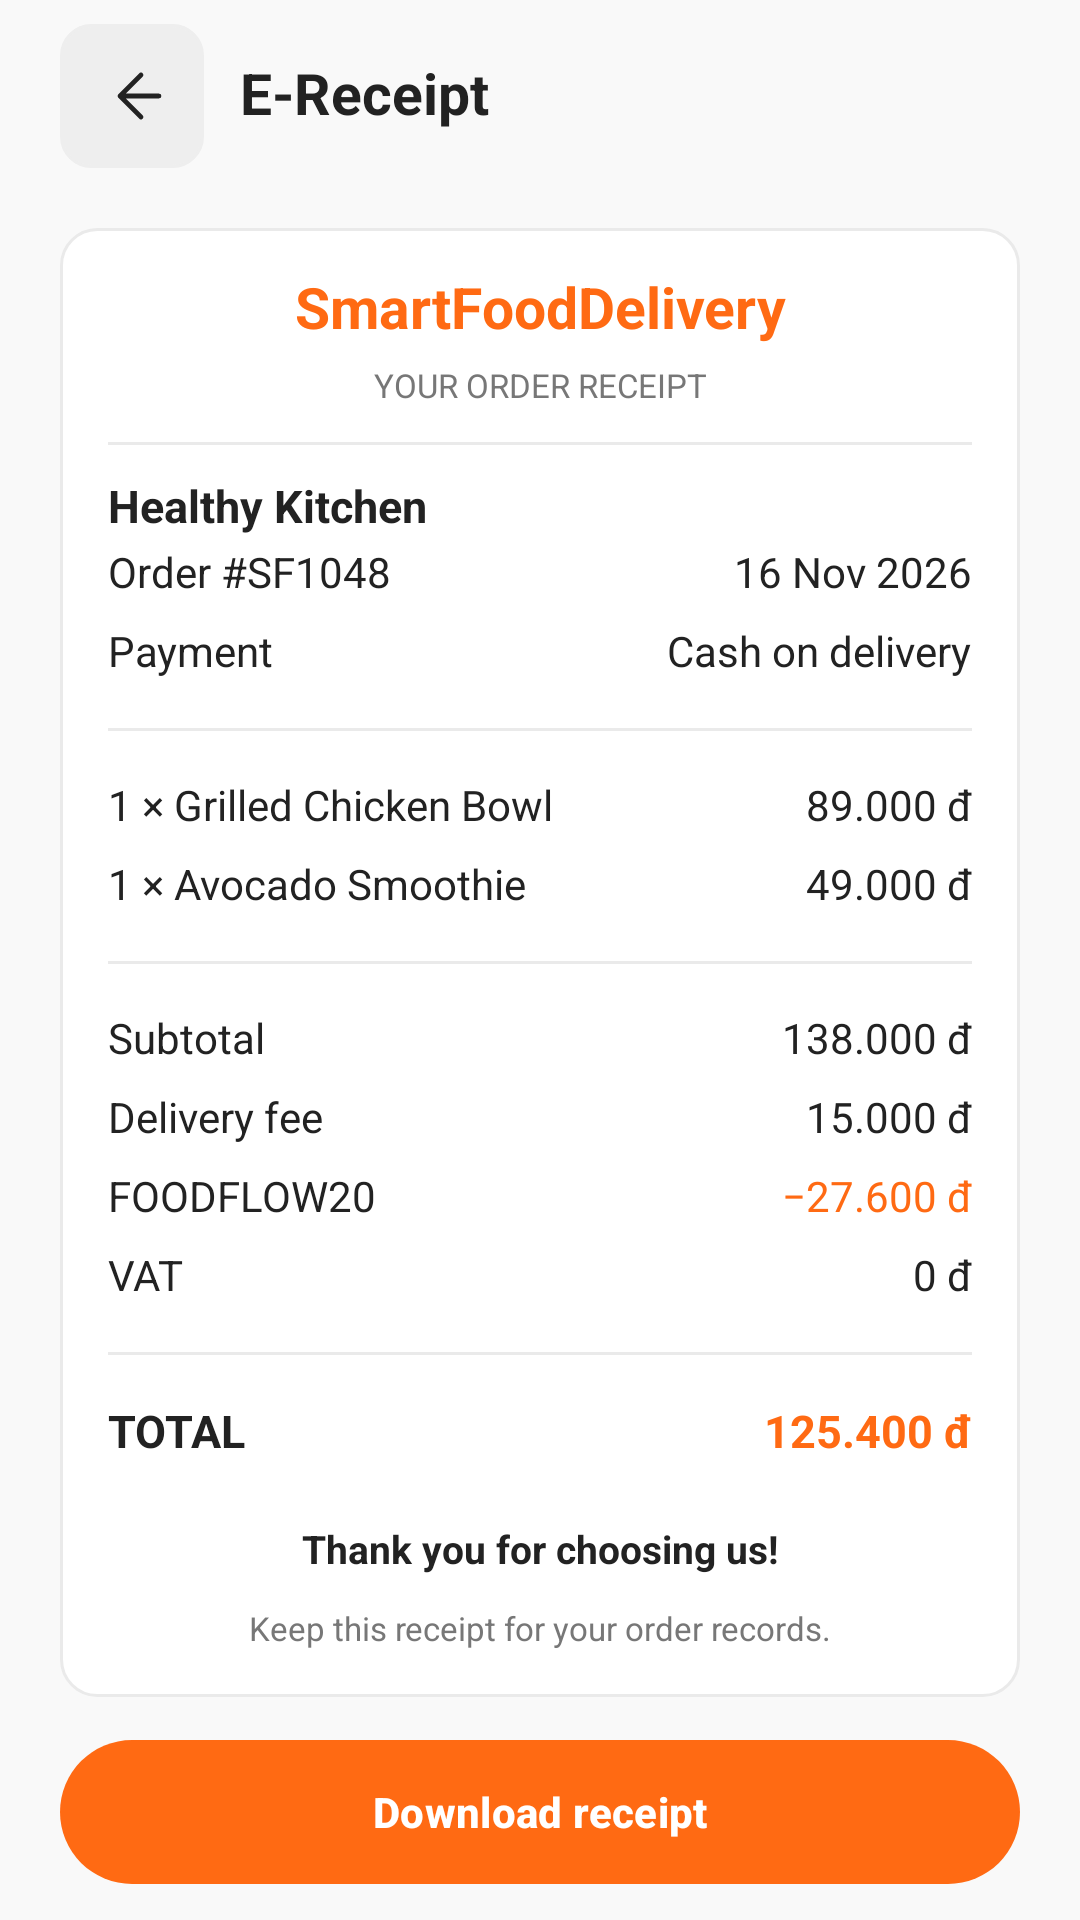

Locate icon controls on the screen. Image size 1080px x 1920px, boxes as (x1, y1, x2, y2).
Back: (60, 24, 204, 168)
